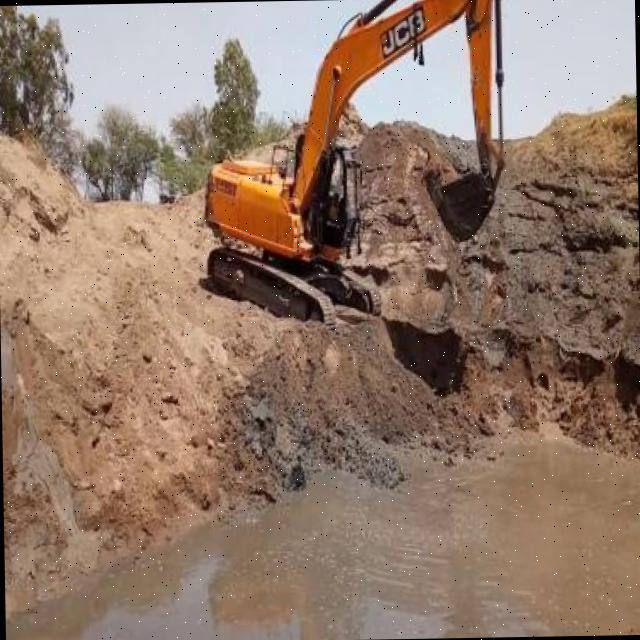Excavator: (199, 0, 510, 339)
